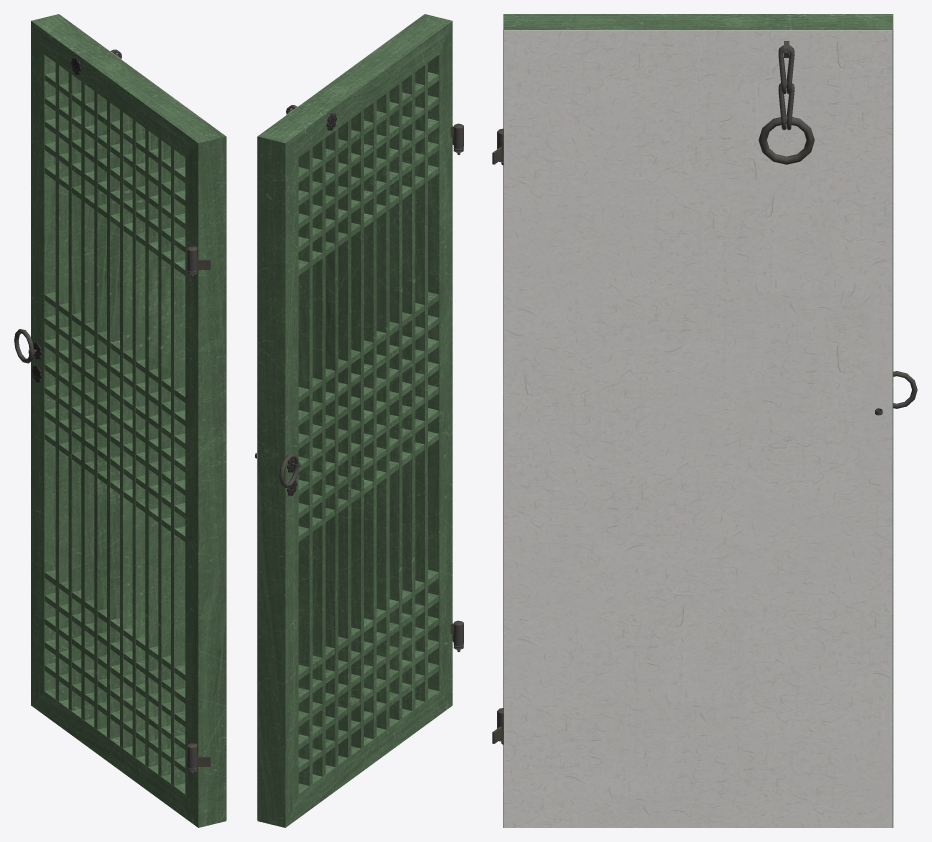
File: SM_Door02C.fbx
3 renders of one model, left to right at view 1: azimuth 30°, elevation 25°; view 2: azimuth 150°, elevation 25°; view 3: azimuth 270°, elevation 25°, orthographic. The views are drawn at different scales.
Parts seen in each view (by area): view 1: SM_Door02C; view 2: SM_Door02C; view 3: SM_Door02C.
Part boxes in pixels (box(x1,y1,x2,y2)): SM_Door02C: box(14, 14, 226, 827); SM_Door02C: box(255, 14, 463, 827); SM_Door02C: box(492, 14, 917, 827).
Size of the model in its own units: 10.9 by 60.72 by 126.
